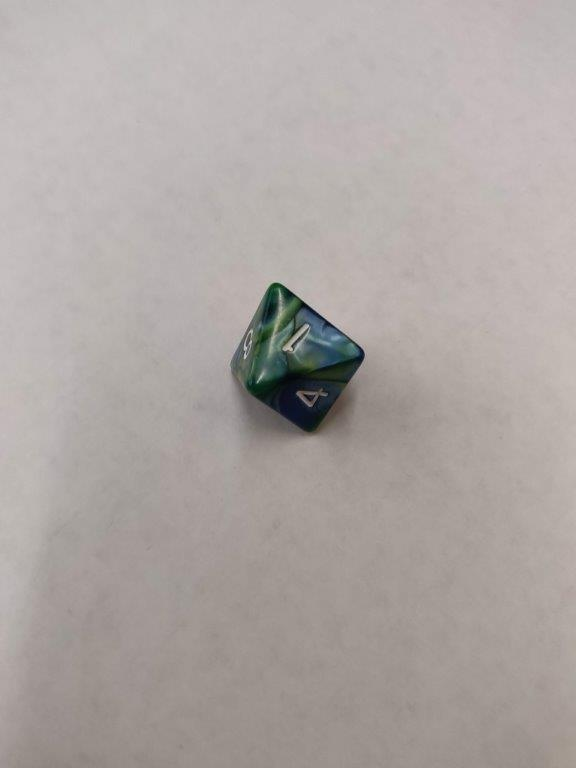d8-1: (227, 282, 365, 435)
